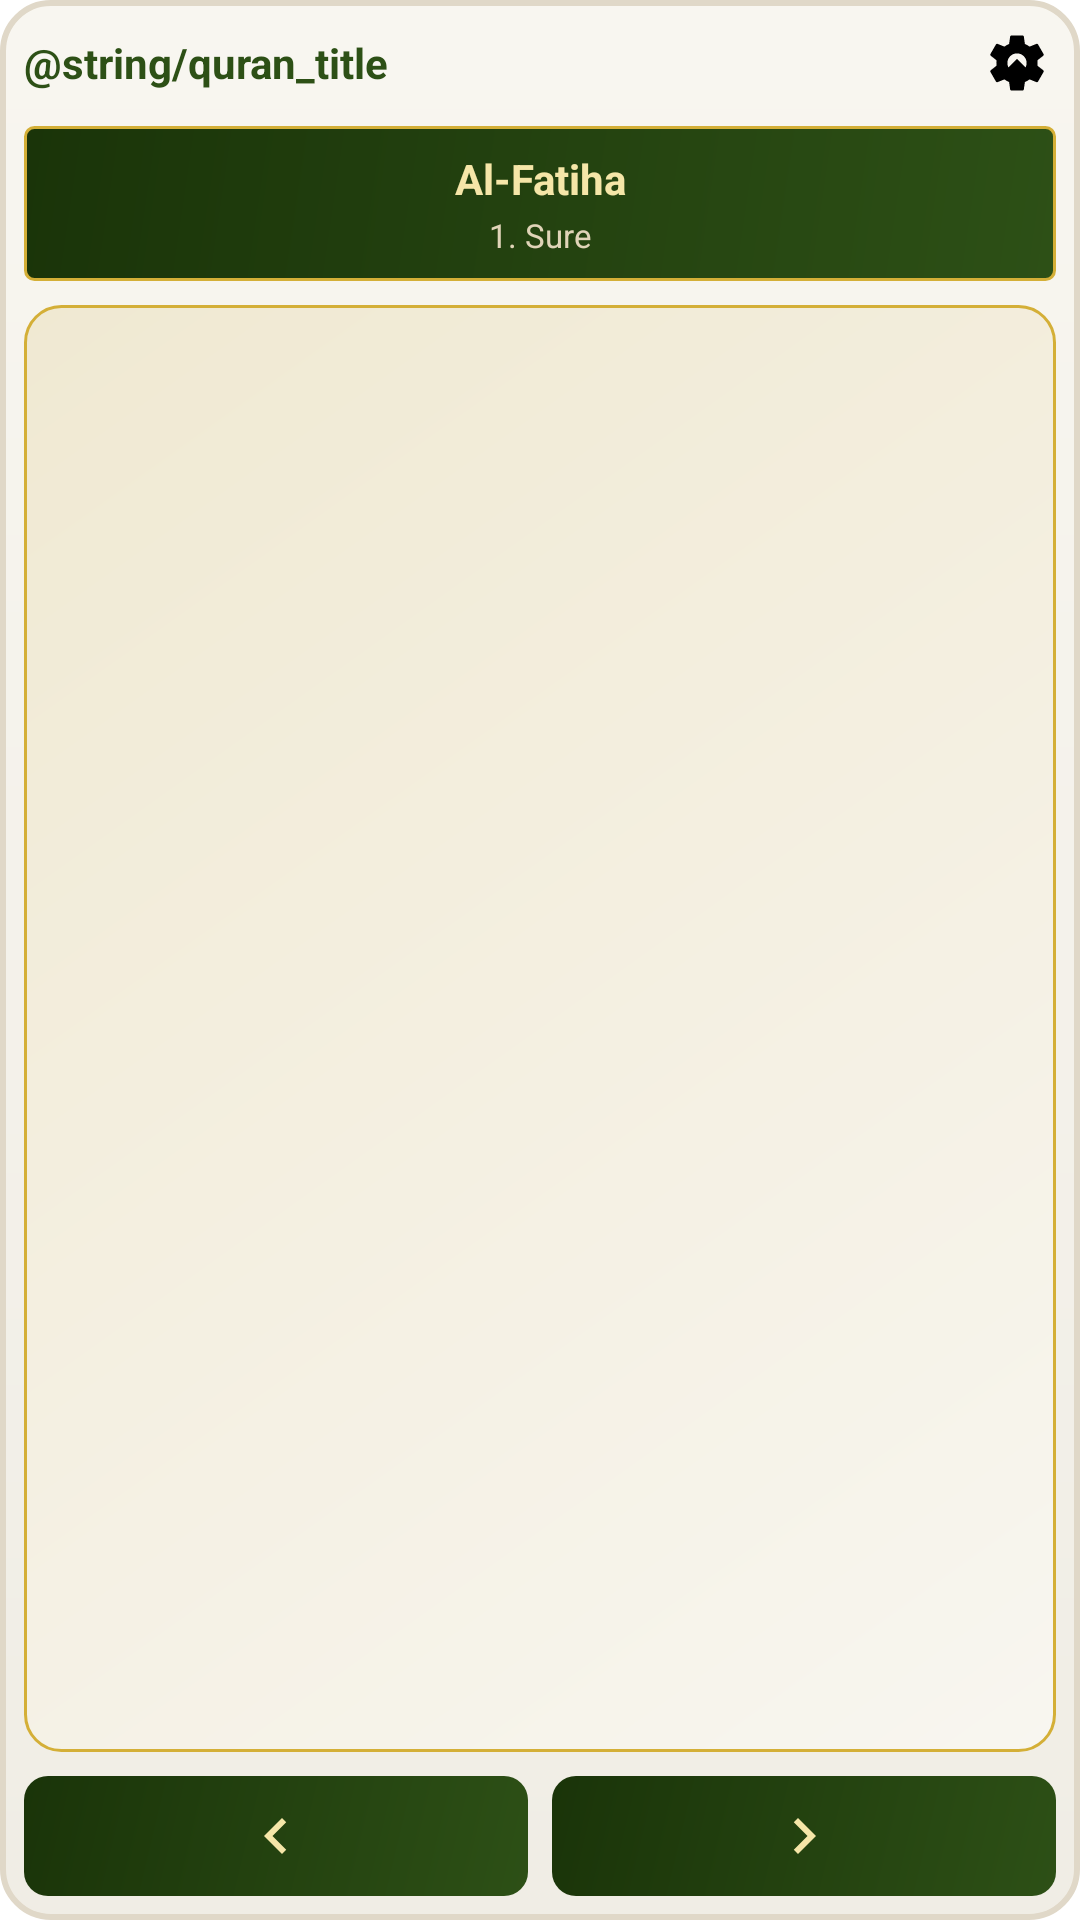

Screen size 1080x1920. Icon name, then its box in pixels as (x1, y1, x2, y2):
الإعدادات: (990, 35, 1044, 91)
